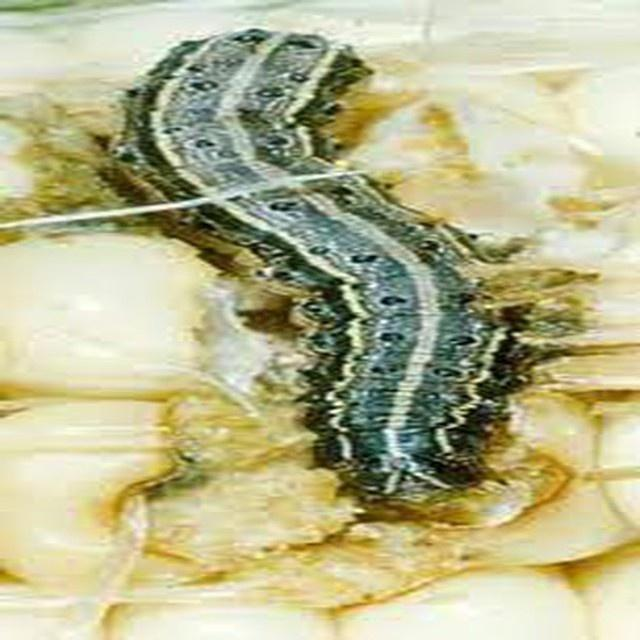gusano_cogollero: (130, 34, 505, 484)
